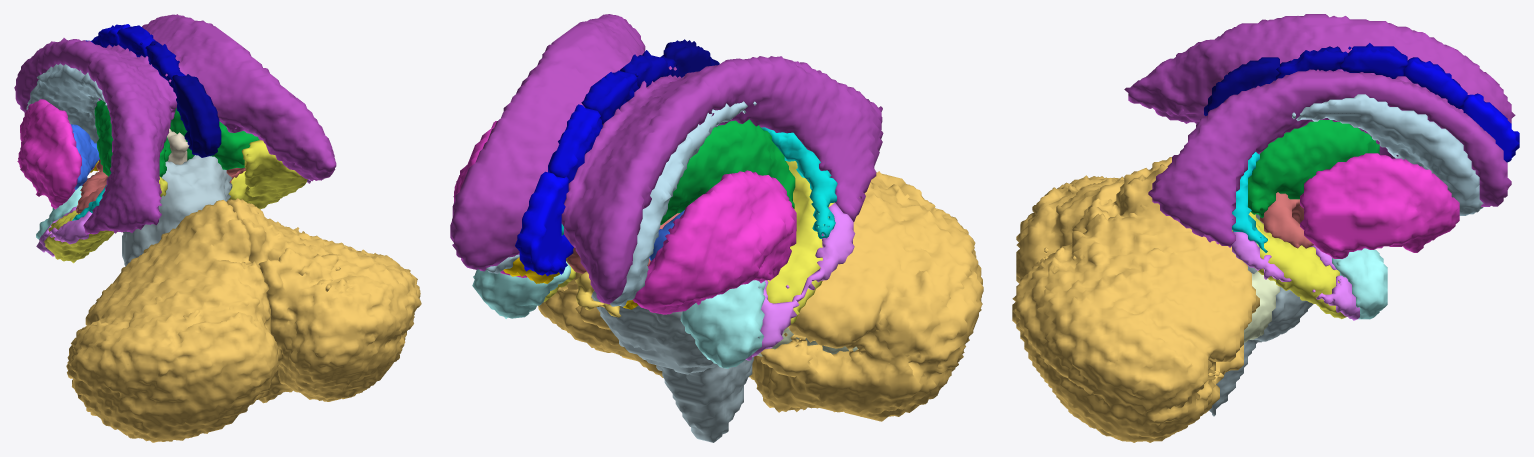
Rendered from structures.glb.
The picture shows the model from 3 angles, left to right: view 1: azimuth 30°, elevation 25°; view 2: azimuth 150°, elevation 25°; view 3: azimuth 270°, elevation 25°; orthographic projection. The views are drawn at different scales.
Visible parts, largest first — view 1: aseg:left:8, aseg:right:47, aseg:left:4, aseg:right:43, aseg:left:12, aseg:midline:16, aseg:left:11, aseg:right:53, aseg:midline:251, aseg:right:49, aseg:left:17, aseg:left:10 (+8 smaller); view 2: aseg:left:8, aseg:left:4, aseg:right:43, aseg:left:12, aseg:midline:16, aseg:left:10, aseg:left:18, aseg:left:11, aseg:midline:255, aseg:left:17, aseg:left:5, aseg:right:47 (+9 smaller); view 3: aseg:right:47, aseg:right:43, aseg:left:4, aseg:right:51, aseg:right:50, aseg:right:49, aseg:left:8, aseg:right:53, aseg:right:54, aseg:right:44, aseg:midline:16, aseg:midline:251 (+7 smaller).
Boxes of the visible parts, left/top/right/bottom form: aseg:left:8: left=66, top=199, right=279, bottom=442; aseg:right:47: left=226, top=198, right=421, bottom=403; aseg:left:4: left=14, top=38, right=177, bottom=234; aseg:right:43: left=142, top=14, right=336, bottom=181; aseg:left:12: left=17, top=99, right=94, bottom=209; aseg:midline:16: left=122, top=155, right=232, bottom=266; aseg:left:11: left=26, top=63, right=106, bottom=143; aseg:right:53: left=228, top=140, right=307, bottom=209; aseg:midline:251: left=172, top=74, right=221, bottom=157; aseg:right:49: left=170, top=108, right=259, bottom=169; aseg:left:17: left=44, top=176, right=167, bottom=263; aseg:left:10: left=94, top=100, right=171, bottom=177; aseg:left:8: left=749, top=171, right=983, bottom=421; aseg:left:4: left=561, top=56, right=883, bottom=304; aseg:right:43: left=450, top=14, right=645, bottom=271; aseg:left:12: left=633, top=170, right=796, bottom=314; aseg:midline:16: left=591, top=291, right=753, bottom=442; aseg:left:10: left=660, top=119, right=795, bottom=225; aseg:left:18: left=680, top=280, right=765, bottom=368; aseg:left:11: left=610, top=101, right=756, bottom=306; aseg:midline:255: left=515, top=171, right=573, bottom=276; aseg:left:17: left=766, top=161, right=834, bottom=329; aseg:left:5: left=745, top=203, right=855, bottom=360; aseg:right:47: left=538, top=272, right=663, bottom=377; aseg:right:47: left=1012, top=164, right=1259, bottom=442; aseg:right:43: left=1148, top=69, right=1511, bottom=247; aseg:left:4: left=1124, top=14, right=1515, bottom=124; aseg:right:51: left=1300, top=153, right=1459, bottom=258; aseg:right:50: left=1292, top=94, right=1483, bottom=215; aseg:right:49: left=1248, top=120, right=1379, bottom=217; aseg:left:8: left=1016, top=157, right=1171, bottom=283; aseg:right:53: left=1232, top=212, right=1347, bottom=318; aseg:right:54: left=1332, top=248, right=1387, bottom=319; aseg:right:44: left=1232, top=231, right=1359, bottom=320; aseg:midline:16: left=1209, top=214, right=1313, bottom=416; aseg:midline:251: left=1204, top=57, right=1279, bottom=115.
Size of the model in its own units: 0.108 by 0.101 by 0.127.
